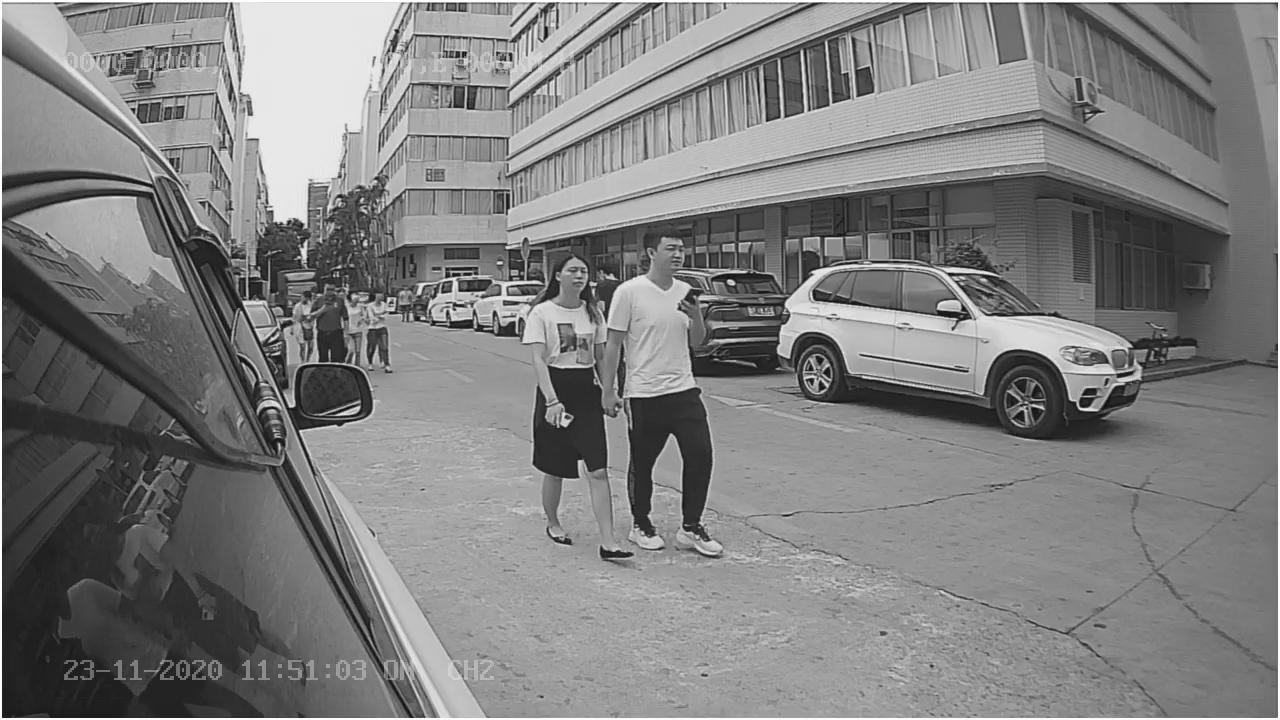person: (522, 247, 642, 562)
